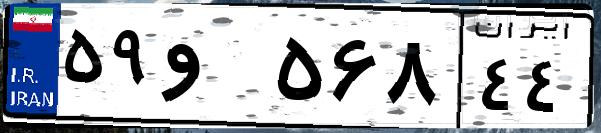4: (475, 38, 525, 113), (525, 38, 570, 115)
5: (270, 28, 330, 110), (57, 26, 110, 100)
6: (330, 28, 385, 110)
8: (385, 28, 445, 110)
9: (110, 28, 158, 98)
و: (158, 20, 270, 120)
